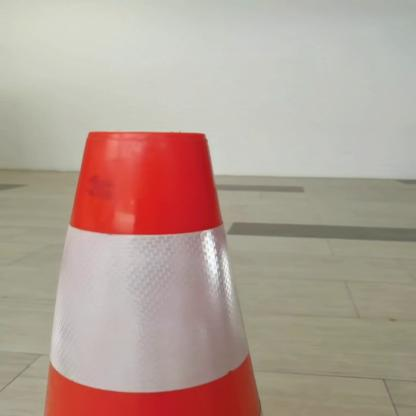cone: (33, 119, 270, 416)
